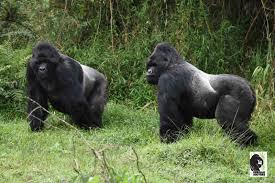Gorilla: (143, 45, 256, 146), (19, 42, 109, 131)
